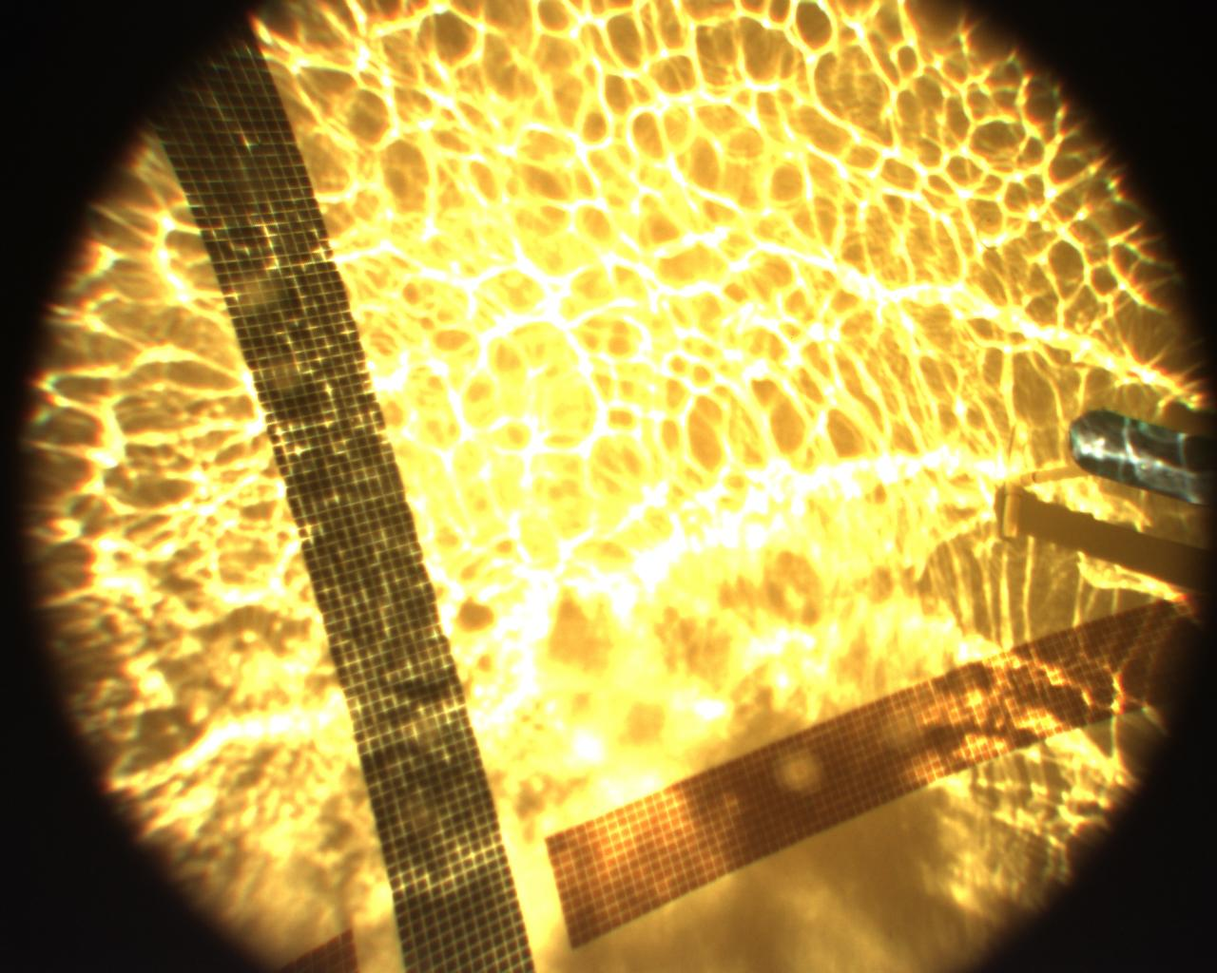path: (999, 405, 1217, 585)
